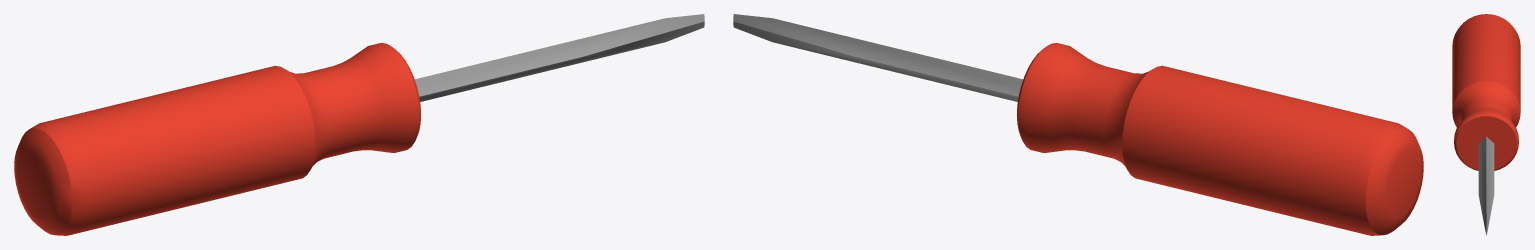
File: screwdriver.fbx
3 renders of one model, left to right at view 1: azimuth 30°, elevation 25°; view 2: azimuth 150°, elevation 25°; view 3: azimuth 270°, elevation 25°, orthographic. The views are drawn at different scales.
Parts seen in each view (by area): view 1: Screwdriver; view 2: Screwdriver; view 3: Screwdriver.
Boxes of the visible parts, x1,y1,x2,y2 form: Screwdriver: (14, 14, 704, 235); Screwdriver: (733, 14, 1423, 235); Screwdriver: (1452, 14, 1520, 235).
Size of the model in its own units: 531 by 80 by 80.
